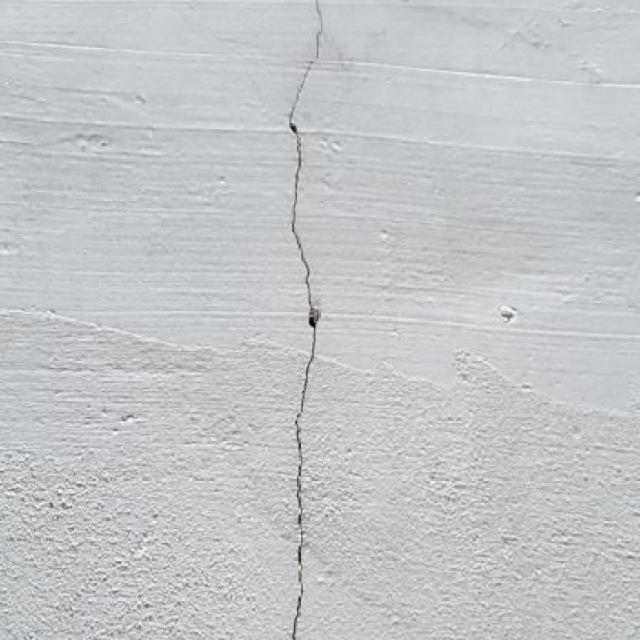GRIETA: (288, 0, 322, 639)
